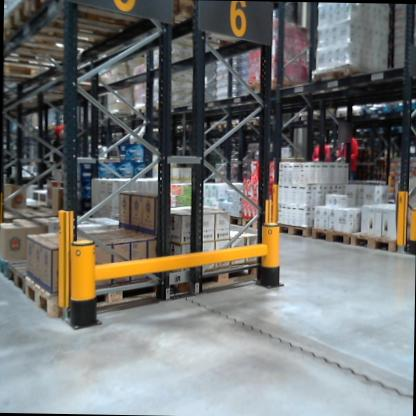pallet: (4, 0, 170, 58), (24, 269, 173, 326), (170, 252, 271, 302), (9, 253, 117, 299), (26, 0, 177, 29), (165, 0, 243, 52), (47, 58, 113, 96), (309, 54, 378, 87), (345, 225, 403, 256), (3, 59, 57, 89), (270, 213, 317, 241), (310, 226, 349, 247), (240, 210, 274, 234), (245, 80, 287, 98), (290, 111, 330, 126), (359, 103, 392, 119), (128, 101, 157, 118), (0, 250, 15, 281), (224, 209, 241, 231), (334, 111, 360, 122), (205, 121, 228, 132), (239, 120, 266, 129), (227, 119, 241, 131)
